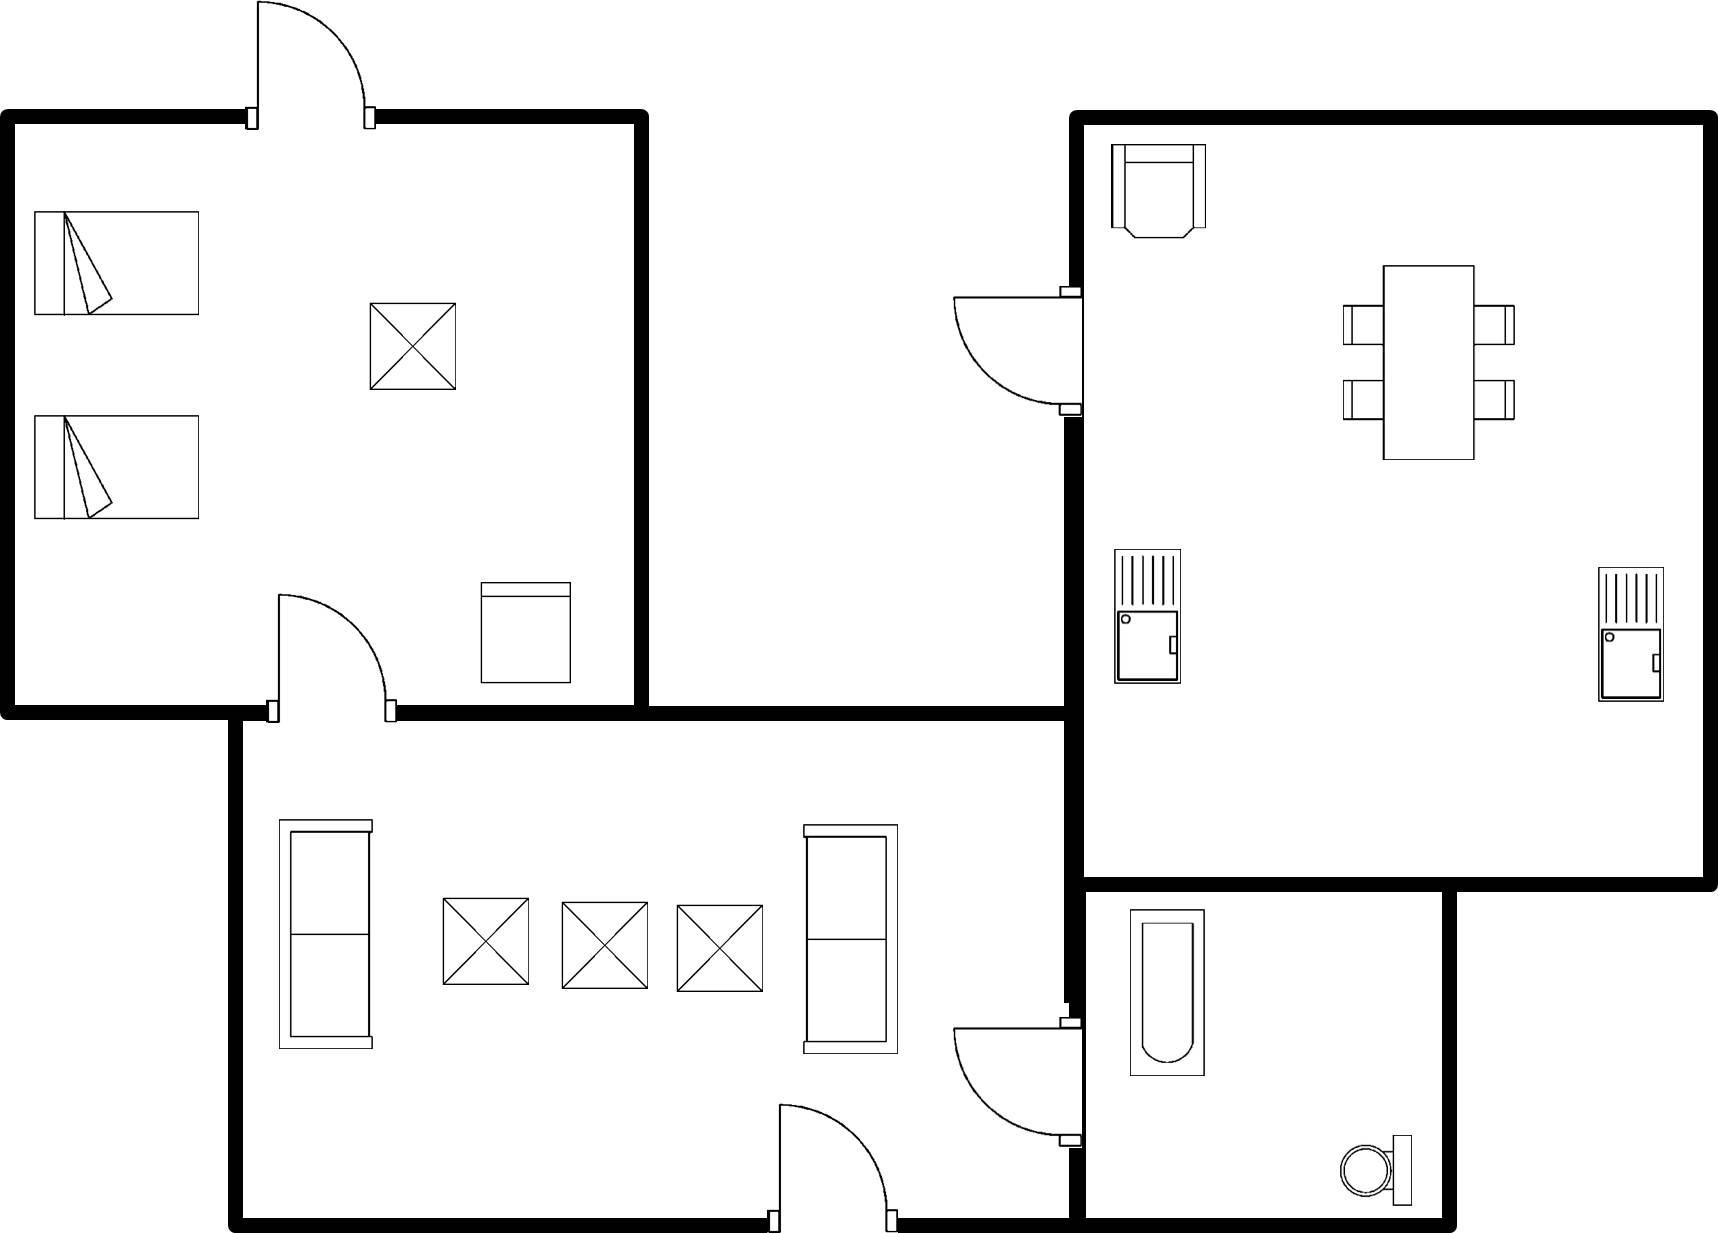bed: (24, 203, 208, 326), (23, 408, 208, 524)
dining_table: (1330, 254, 1526, 472)
sink: (1585, 556, 1669, 717), (1104, 540, 1192, 693)
sofa: (791, 809, 911, 1064), (265, 809, 384, 1060)
toilet: (1331, 1125, 1429, 1209)
tub: (1116, 901, 1214, 1085)
